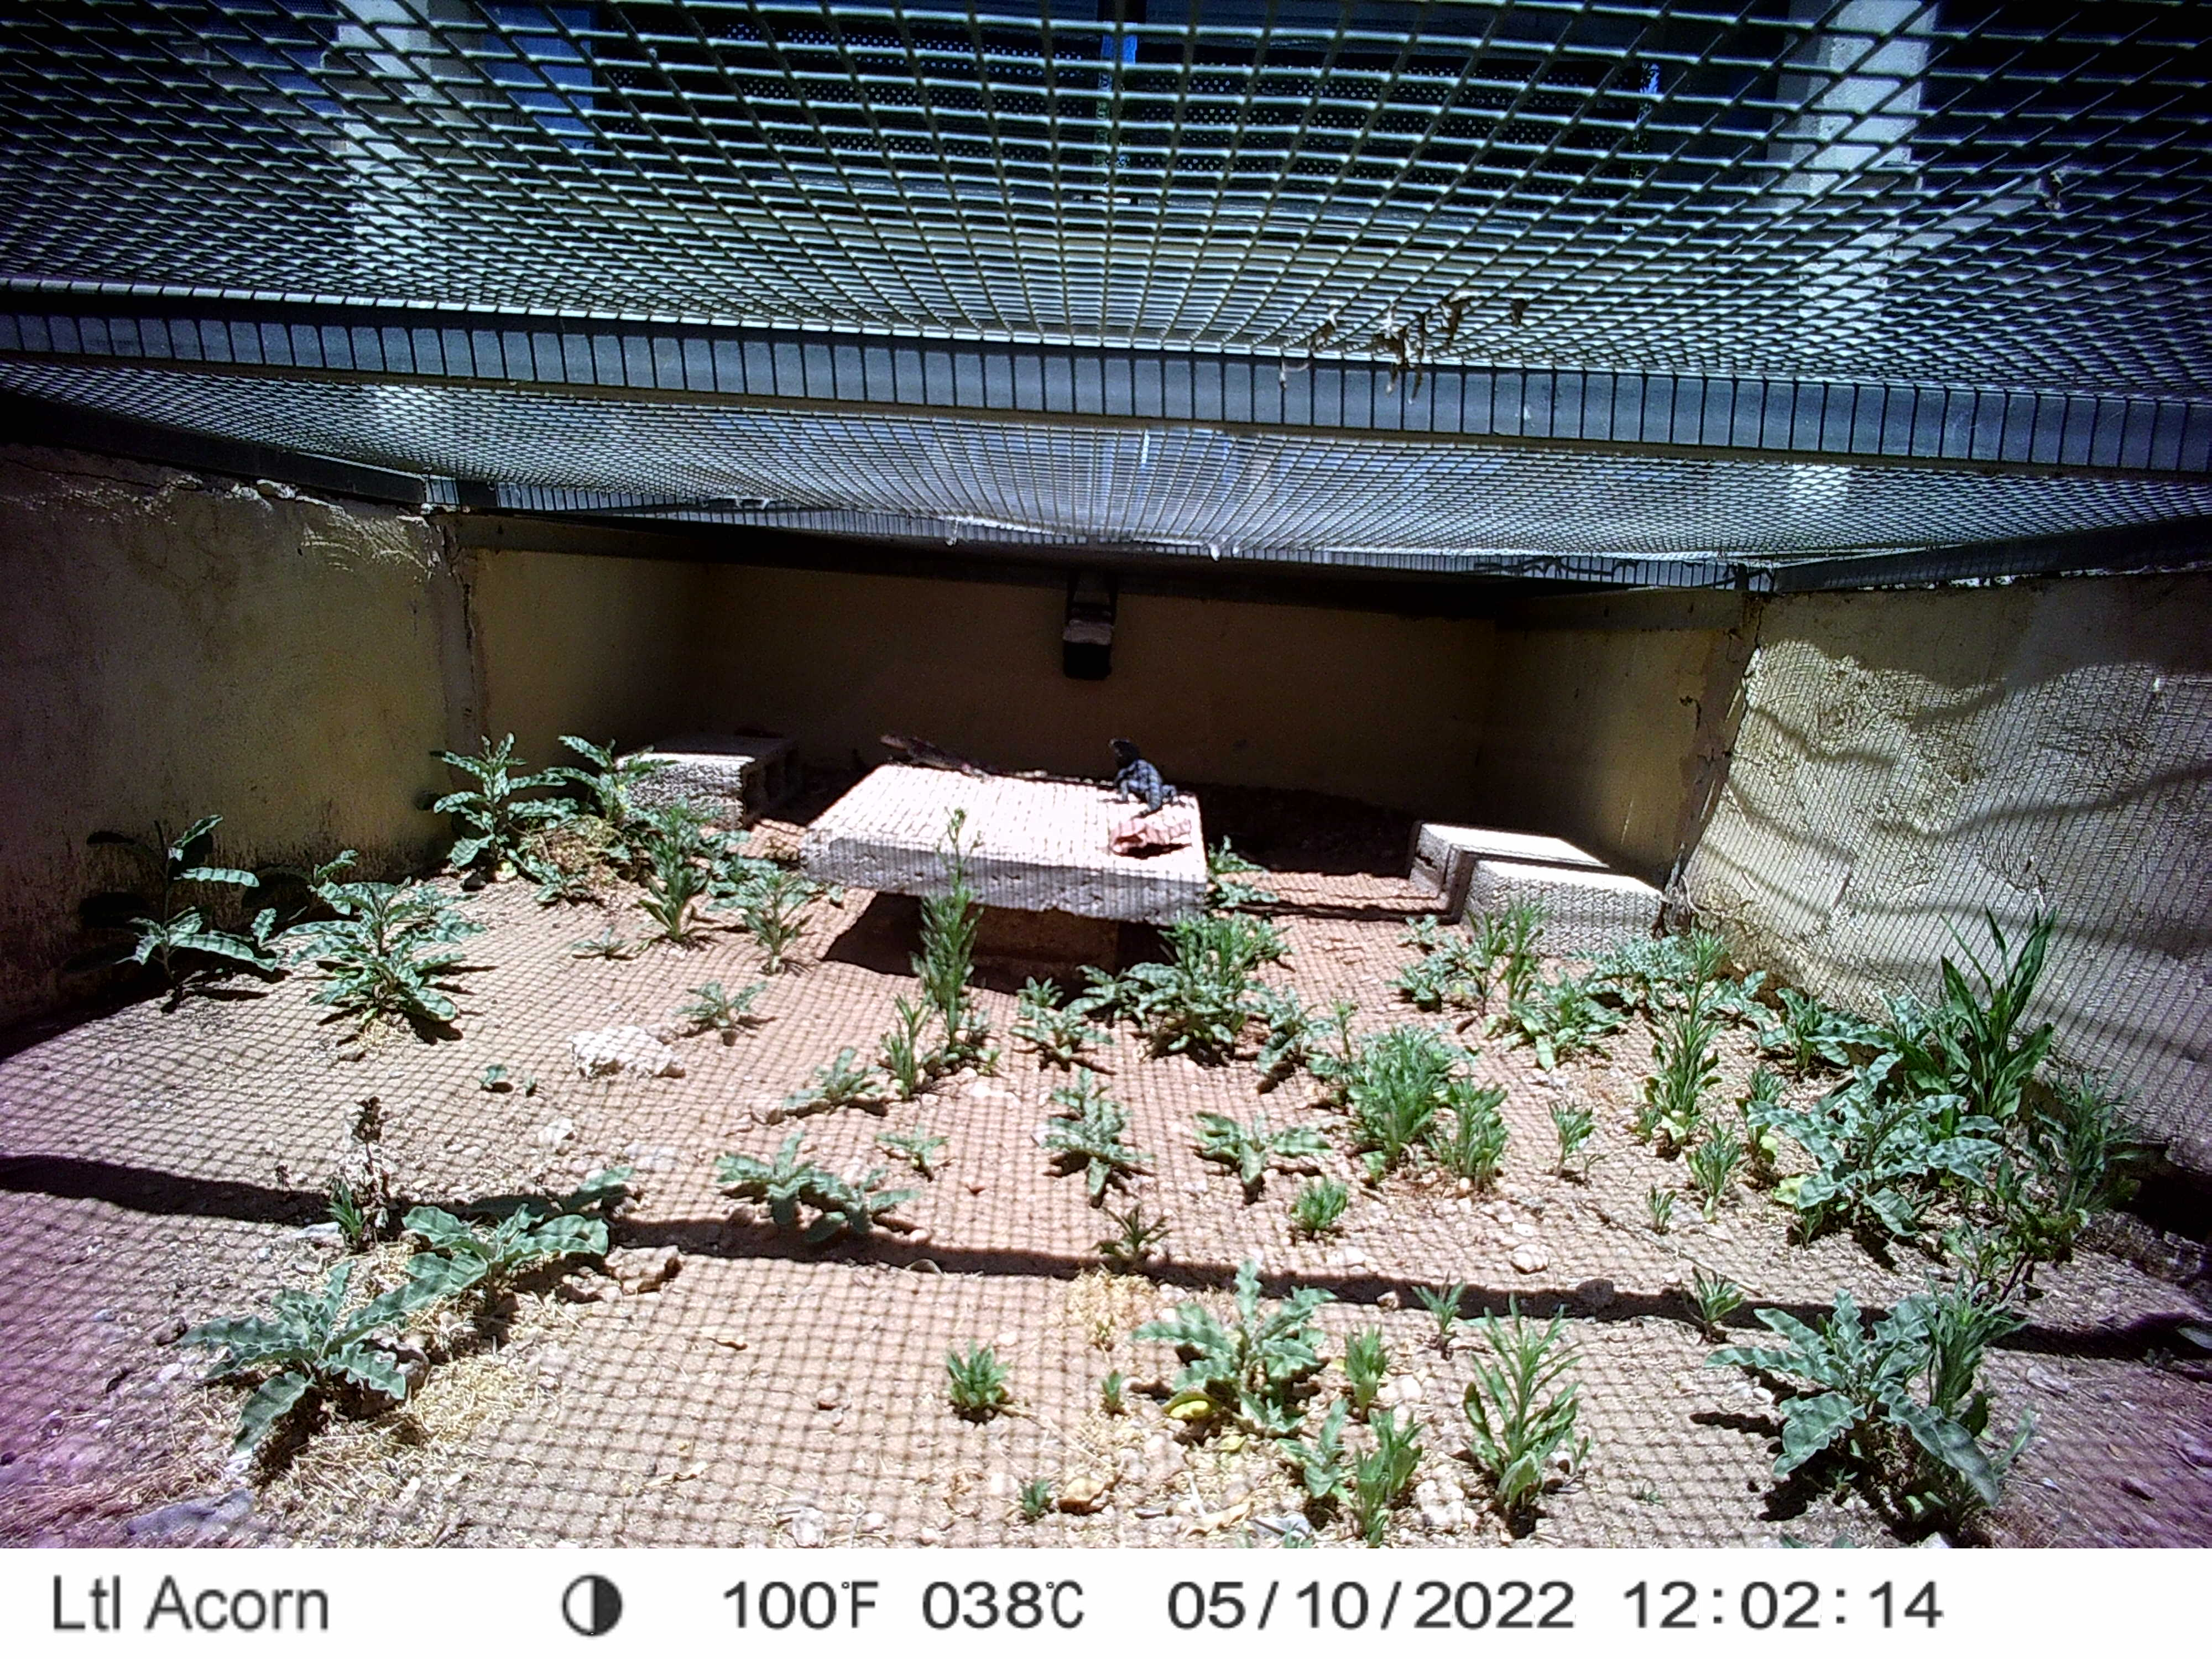lizard: (873, 720, 1069, 788), (1101, 732, 1190, 824)
